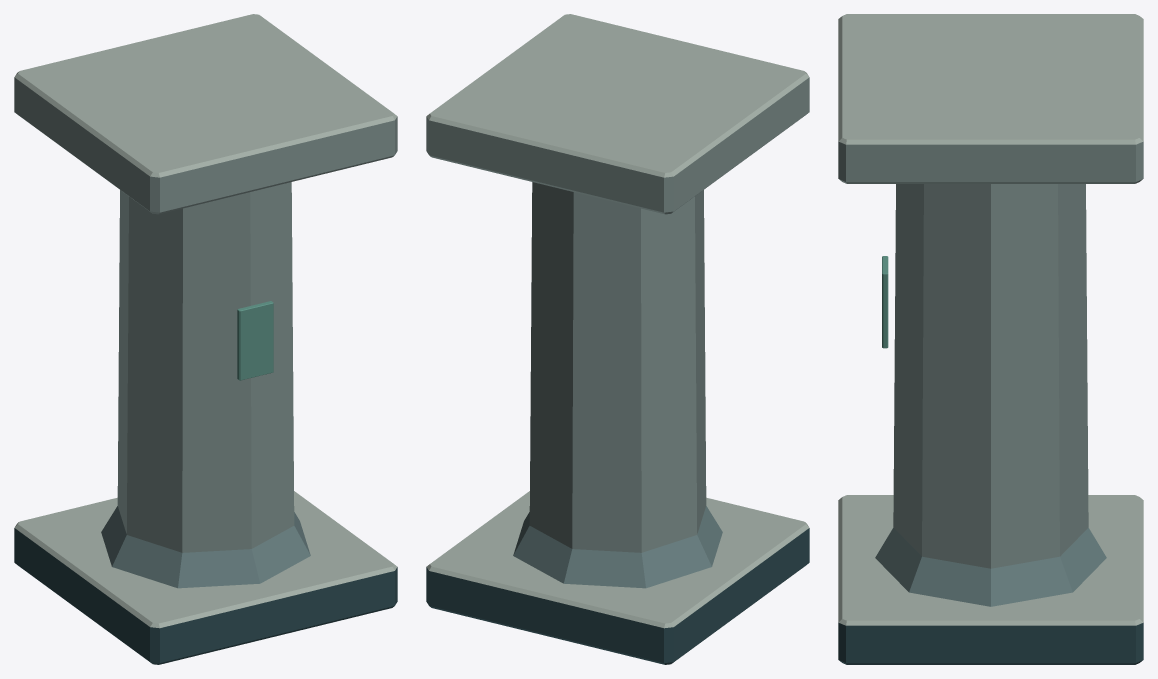
The model's file is pillar-large.glb.
3 views of the same model, side by side, from view 1: azimuth 30°, elevation 25°; view 2: azimuth 150°, elevation 25°; view 3: azimuth 270°, elevation 25° (orthographic). The views are drawn at different scales.
Visible parts, largest first — view 1: pillar-large__body; view 2: pillar-large__body; view 3: pillar-large__body.
Part boxes in pixels (bbox=[...]): pillar-large__body: bbox=[14, 14, 397, 664]; pillar-large__body: bbox=[426, 14, 809, 664]; pillar-large__body: bbox=[838, 14, 1143, 664].
Size of the model in its own units: 1 by 1.9 by 1.
